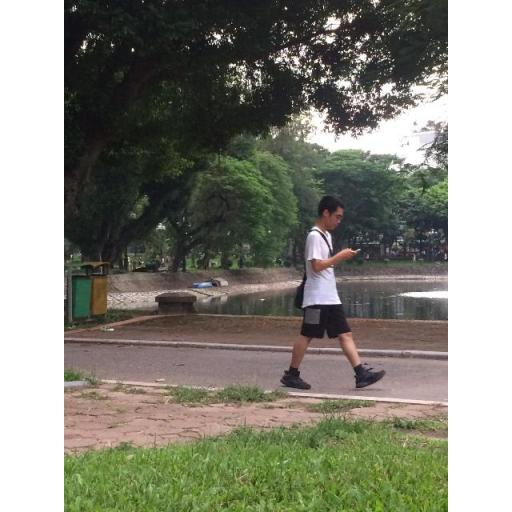Running: (281, 189, 390, 390)
